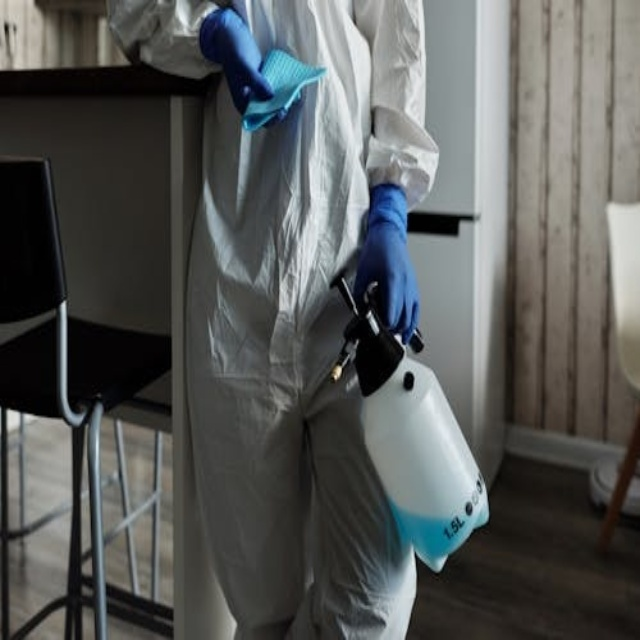Guantes: (351, 186, 418, 348), (198, 5, 280, 122)
